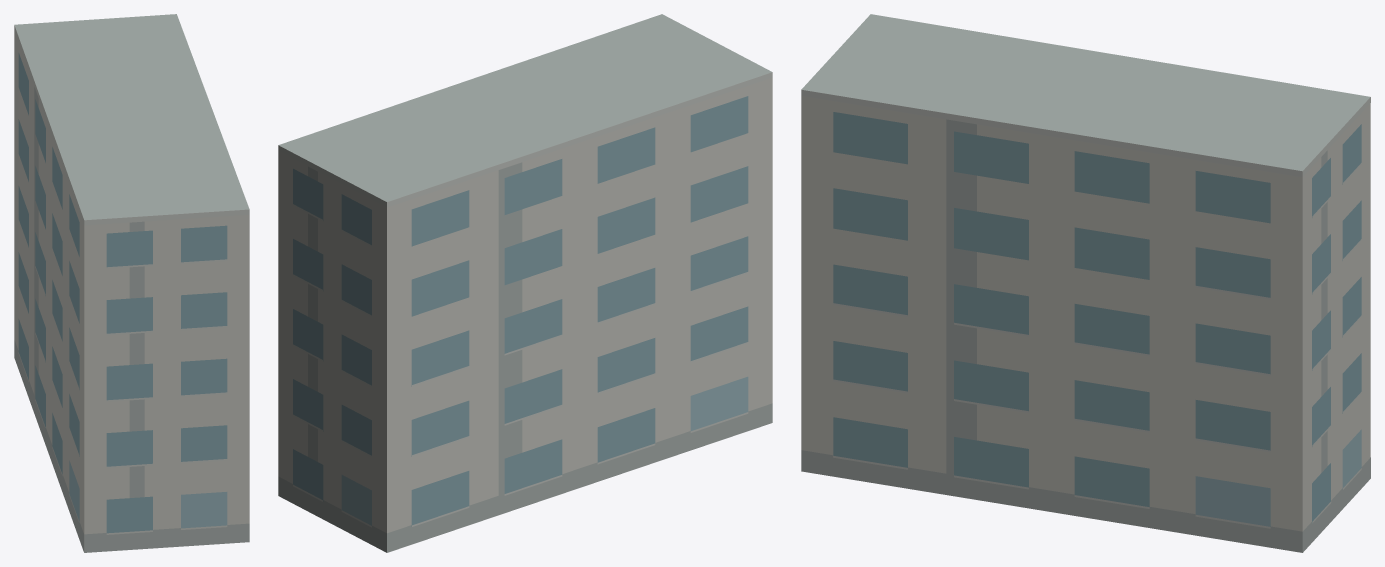
The model's file is survey-upis-32497444.glb.
The picture shows the model from 3 angles, left to right: view 1: azimuth 30°, elevation 25°; view 2: azimuth 150°, elevation 25°; view 3: azimuth 270°, elevation 25°; orthographic projection. The views are drawn at different scales.
Visible parts, largest first — view 1: survey-upis-32497444.tmp; view 2: survey-upis-32497444.tmp; view 3: survey-upis-32497444.tmp.
Boxes of the visible parts, <box> form: survey-upis-32497444.tmp: <box>14,14,249,552</box>; survey-upis-32497444.tmp: <box>278,14,772,552</box>; survey-upis-32497444.tmp: <box>801,14,1370,552</box>.
Size of the model in its own units: 13.48 by 15.25 by 20.63.
